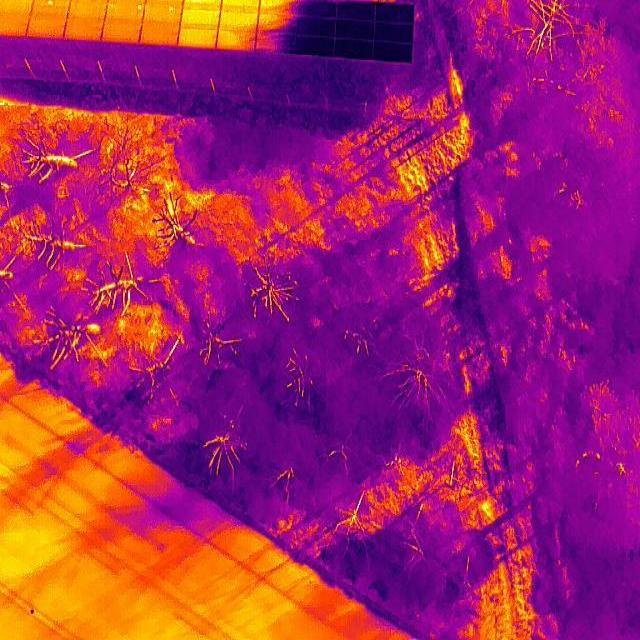Cell: (143, 8, 181, 28)
Cell-Multi: (106, 4, 144, 24)
No-Anomaly: (64, 15, 104, 41), (29, 14, 66, 38), (216, 30, 256, 51), (178, 10, 220, 29), (177, 29, 216, 49), (218, 11, 259, 30), (140, 26, 178, 46), (103, 23, 141, 42)
Shadowing: (295, 36, 334, 58), (374, 4, 413, 25), (335, 21, 375, 41), (373, 24, 413, 44), (373, 42, 412, 62), (336, 1, 375, 21), (256, 15, 296, 34), (334, 41, 374, 60), (296, 18, 336, 36), (299, 0, 337, 18), (255, 34, 295, 51)
